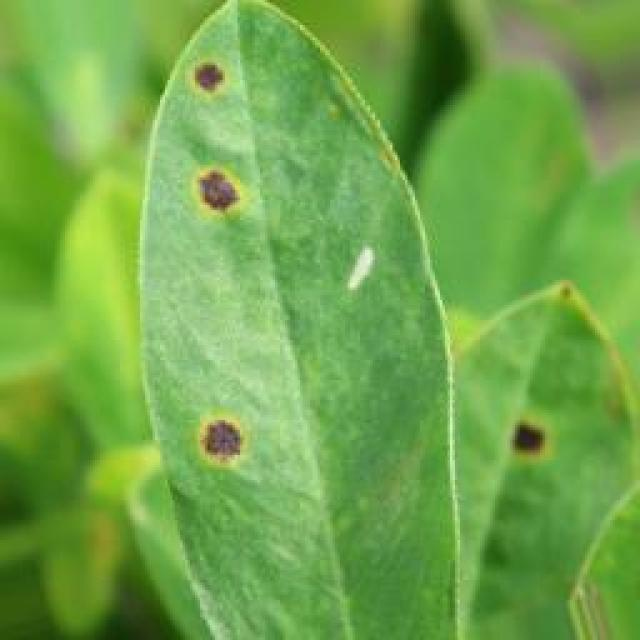Early_leaf_spot: (184, 148, 267, 260), (175, 45, 254, 125), (181, 408, 253, 494), (315, 228, 385, 312), (492, 418, 556, 466)
